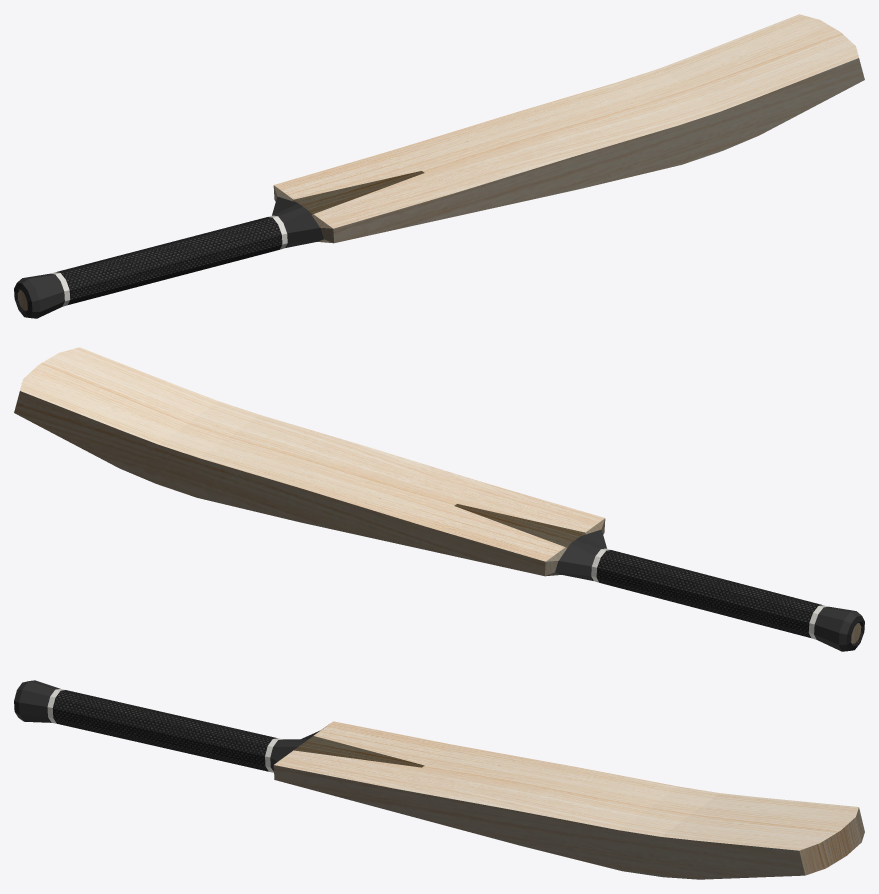
The model's file is WorldItem_CricketBat.fbx.
3 views of the same model, one above another, from view 1: azimuth 30°, elevation 25°; view 2: azimuth 150°, elevation 25°; view 3: azimuth 330°, elevation 25° (orthographic).
Parts seen in each view (by area): view 1: ZomboidCricketBat; view 2: ZomboidCricketBat; view 3: ZomboidCricketBat.
Boxes of the visible parts, <box> form: ZomboidCricketBat: <box>14,14,864,318</box>; ZomboidCricketBat: <box>14,347,864,651</box>; ZomboidCricketBat: <box>14,680,864,879</box>.
Bounding box in the file's own units: 0.6672 × 0.0679 × 0.0835.
